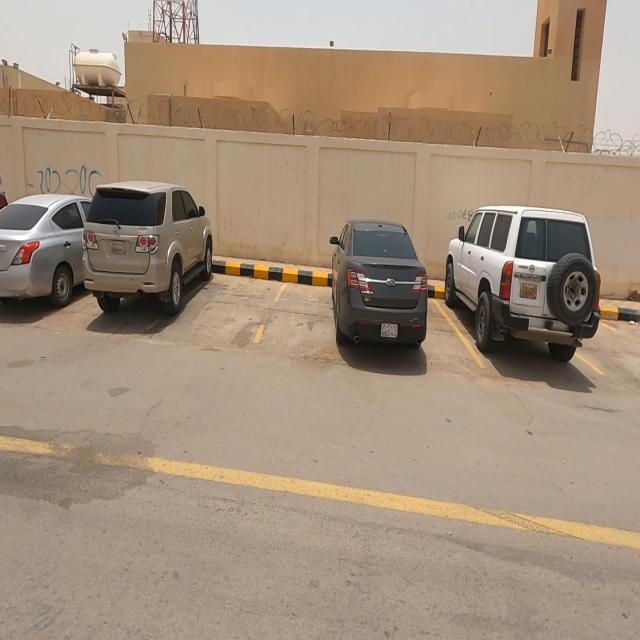Graffiti: (27, 167, 102, 198), (447, 206, 473, 225)
